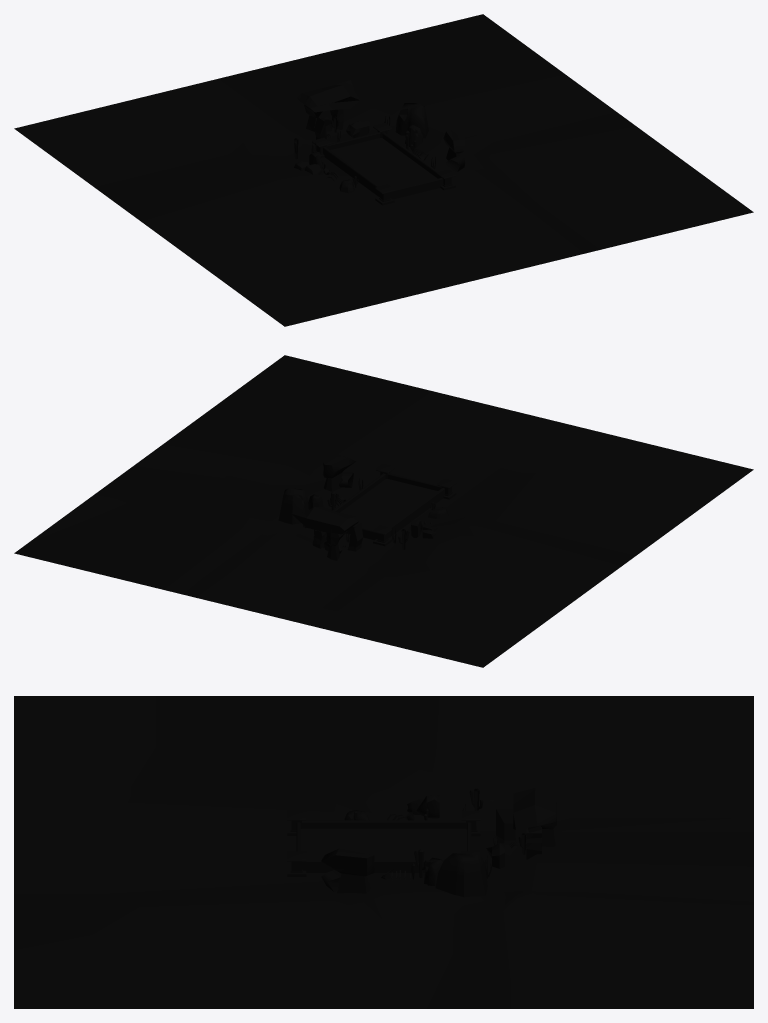
Rendered from Desert_map.fbx.
3 renders of one model, top to bottom at view 1: azimuth 30°, elevation 25°; view 2: azimuth 150°, elevation 25°; view 3: azimuth 270°, elevation 25°, orthographic. The views are drawn at different scales.
Parts seen in each view (by area): view 1: Desert, Desert_Arena, Stone, Cactus; view 2: Desert, Desert_Arena, Stone, Cactus; view 3: Desert, Stone, Desert_Arena, Cactus.
Boxes of the visible parts, bbox=[...] form: Desert: bbox=[14, 14, 753, 326]; Desert_Arena: bbox=[312, 123, 455, 205]; Stone: bbox=[294, 80, 465, 192]; Cactus: bbox=[294, 115, 435, 187]; Desert: bbox=[14, 355, 753, 667]; Desert_Arena: bbox=[333, 464, 456, 546]; Stone: bbox=[278, 454, 448, 560]; Cactus: bbox=[302, 478, 435, 549]; Desert: bbox=[14, 696, 753, 1008]; Stone: bbox=[321, 788, 556, 897]; Desert_Arena: bbox=[287, 810, 480, 876]; Cactus: bbox=[354, 788, 526, 880].
Size of the model in its own units: 17222 by 1727 by 17222.
